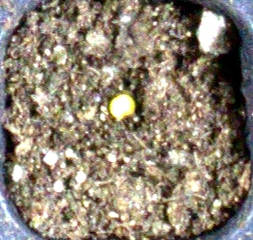chilli seed: (109, 94, 135, 121)
